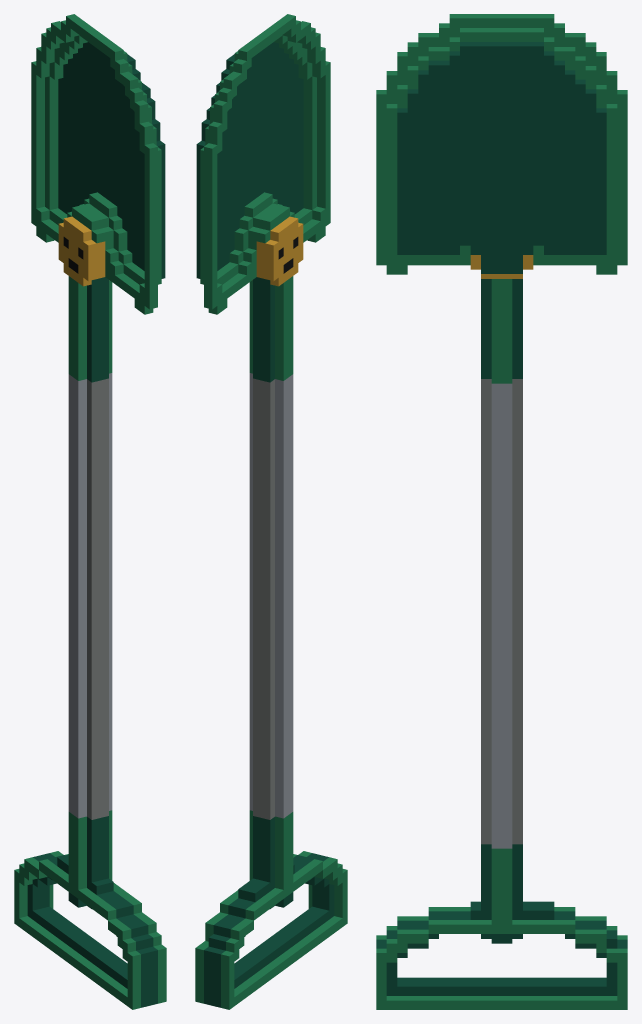
Rendered from shovel_green.obj.
3 views of the same model, side by side, from view 1: azimuth 30°, elevation 25°; view 2: azimuth 150°, elevation 25°; view 3: azimuth 270°, elevation 25° (orthographic). The views are drawn at different scales.
Parts seen in each view (by area): view 1: Untitled.001; view 2: Untitled.001; view 3: Untitled.001.
Part boxes in pixels (x1,y1,x2,y2): Untitled.001: (14, 14, 166, 1009); Untitled.001: (195, 14, 347, 1009); Untitled.001: (376, 14, 627, 1009).
Bounding box in the file's own units: 0.5 × 10.4 × 2.4.
1 material, 1 textured.
